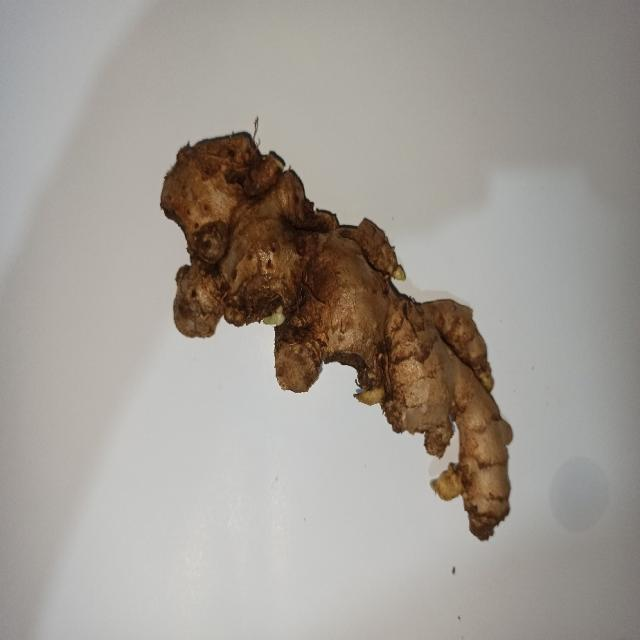ginger: (161, 131, 513, 543)
